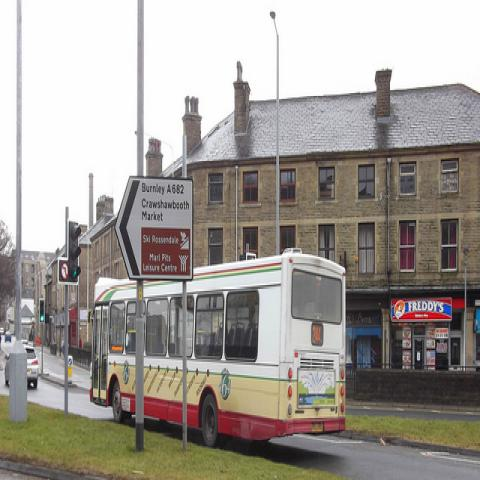bus: (87, 246, 346, 451)
car: (21, 343, 40, 389), (4, 331, 12, 342), (0, 326, 5, 336)
